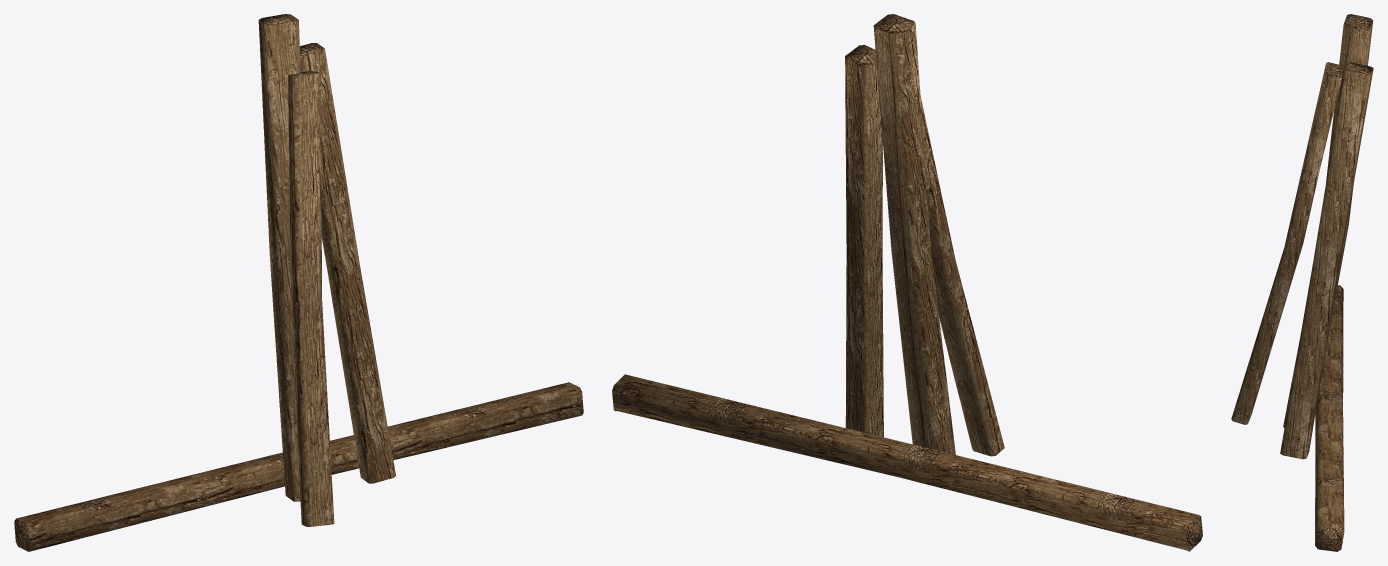
The model's file is woods.obj.
3 views of the same model, side by side, from view 1: azimuth 30°, elevation 25°; view 2: azimuth 150°, elevation 25°; view 3: azimuth 270°, elevation 25° (orthographic). The views are drawn at different scales.
Visible parts, largest first — view 1: woods.obj; view 2: woods.obj; view 3: woods.obj.
Part boxes in pixels (x1,y1,x2,y2): woods.obj: [14, 14, 583, 551]; woods.obj: [612, 14, 1202, 551]; woods.obj: [1231, 14, 1373, 551].
Bounding box in the file's own units: 68.56 × 53.84 × 16.93.
1 material, 1 textured.
